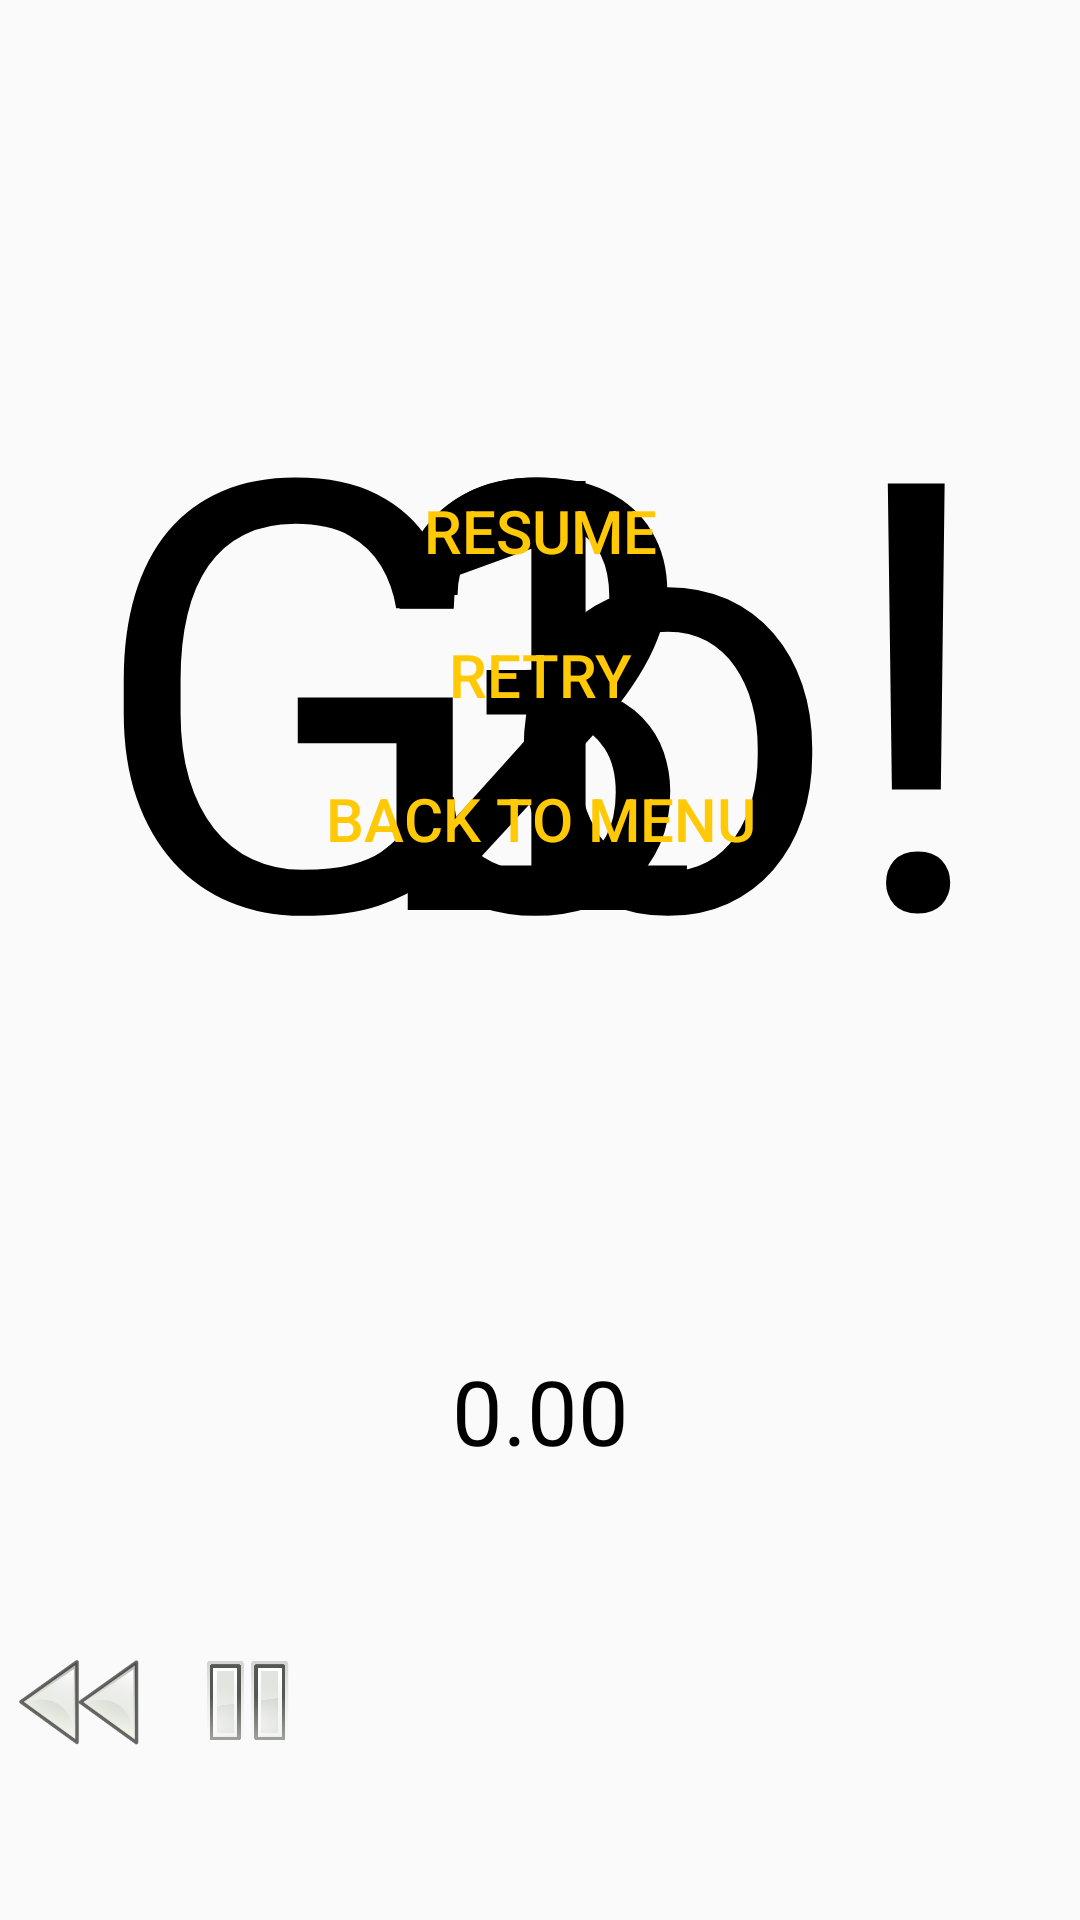

Icon bounding boxes for this 1080*1920 phone screenshot, format bbox(x1, y1, x2, y2):
Pause: bbox(207, 1661, 288, 1740)
